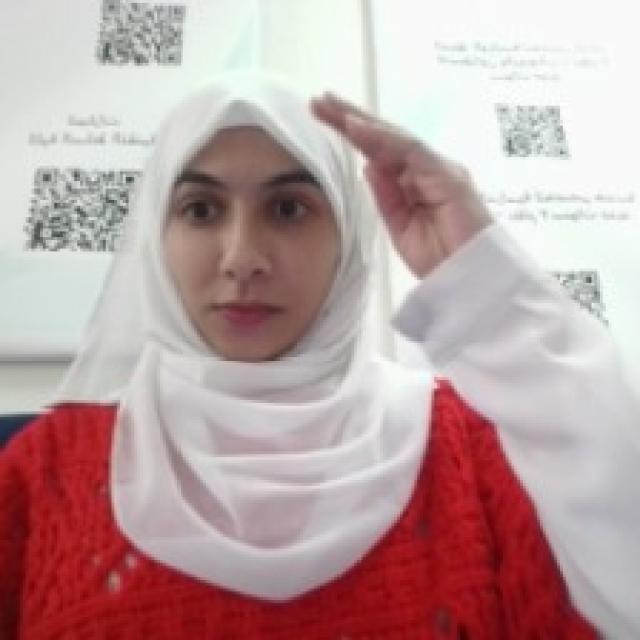Thanks: (303, 80, 494, 280)
